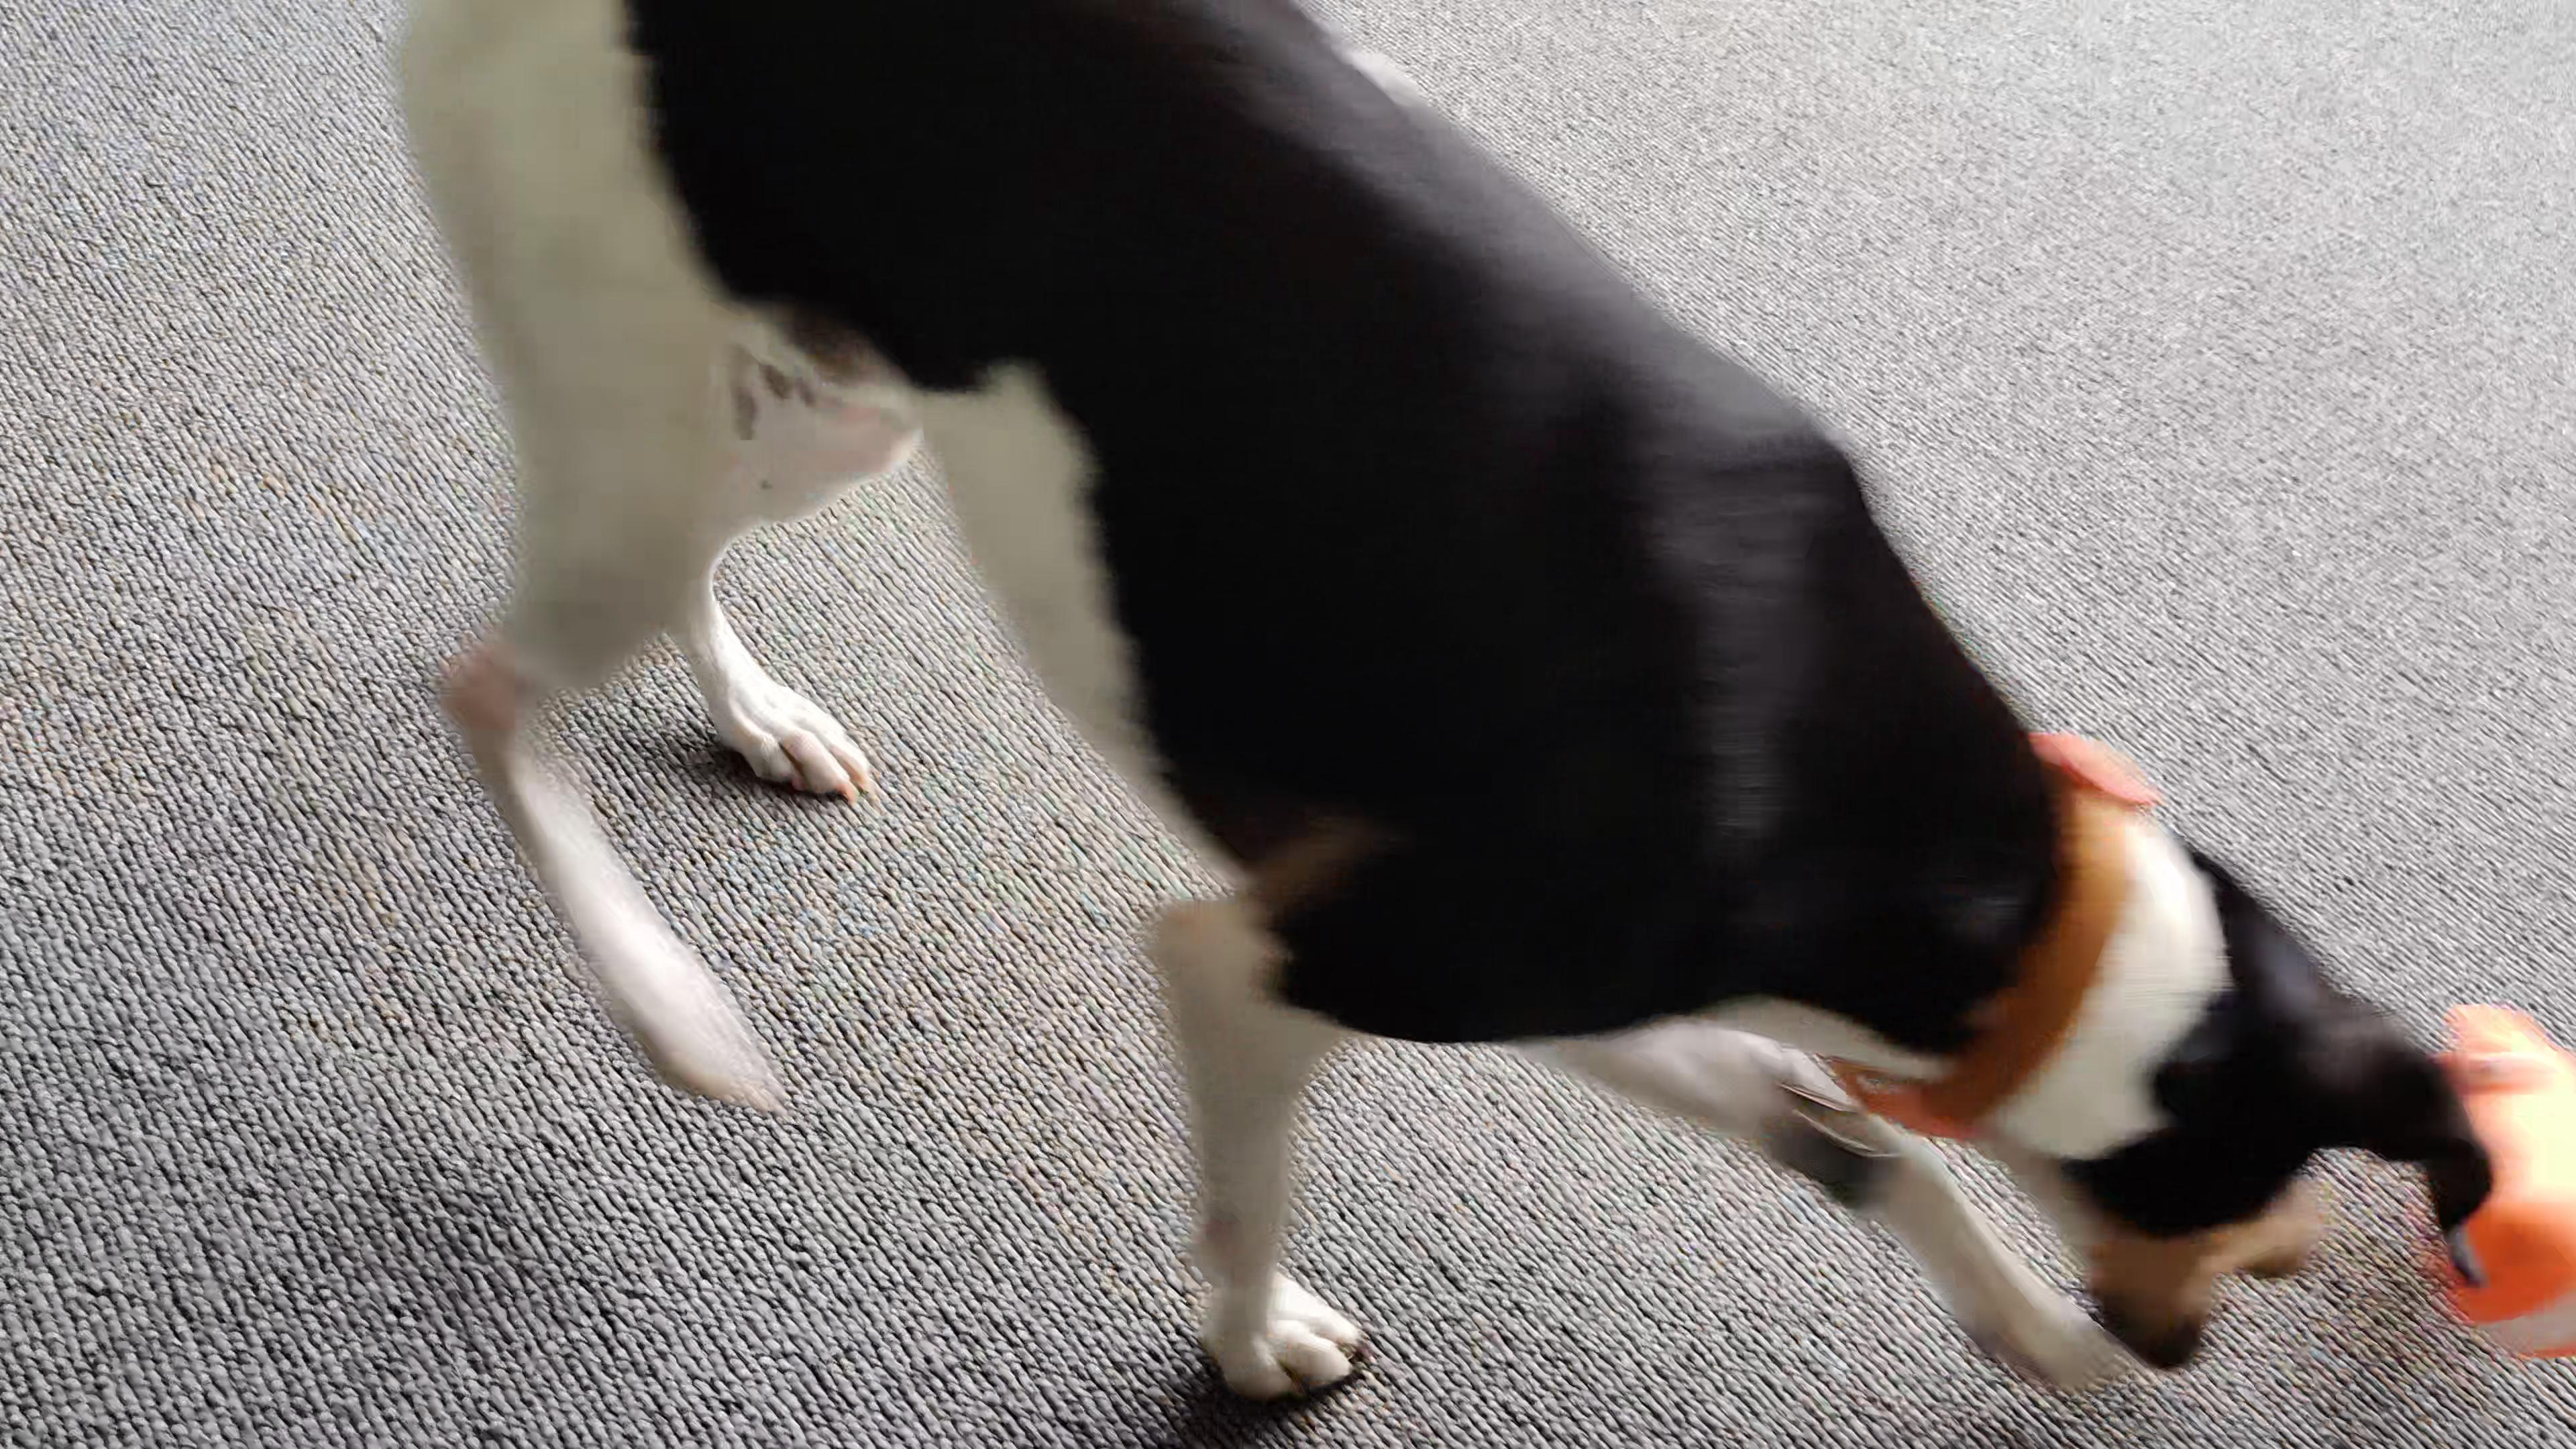Dog: (379, 0, 2489, 1415)
